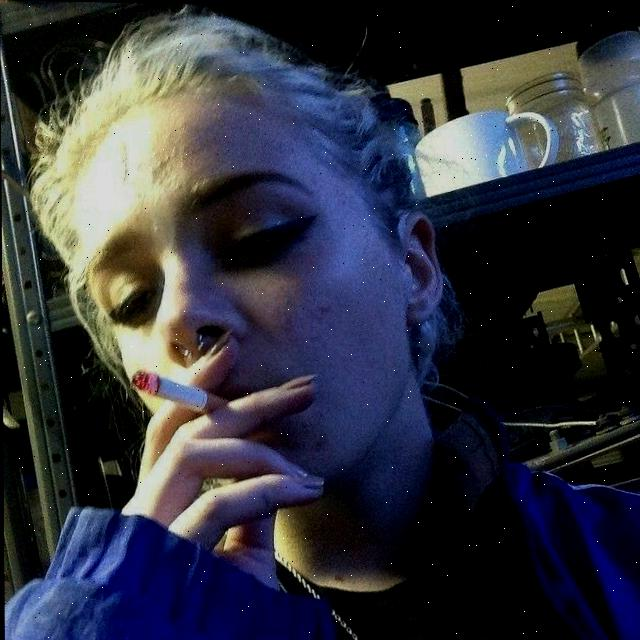cigarette: (131, 369, 234, 413)
